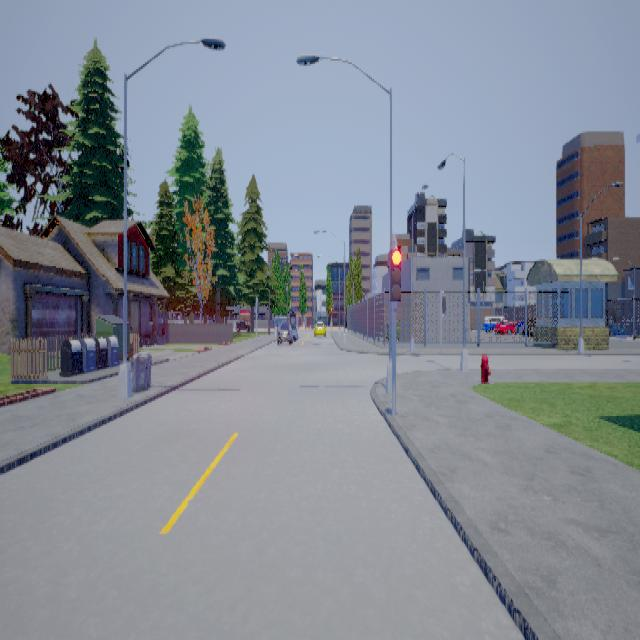red_light: (389, 237, 400, 310)
vehicle: (276, 318, 297, 346), (312, 316, 324, 336)
